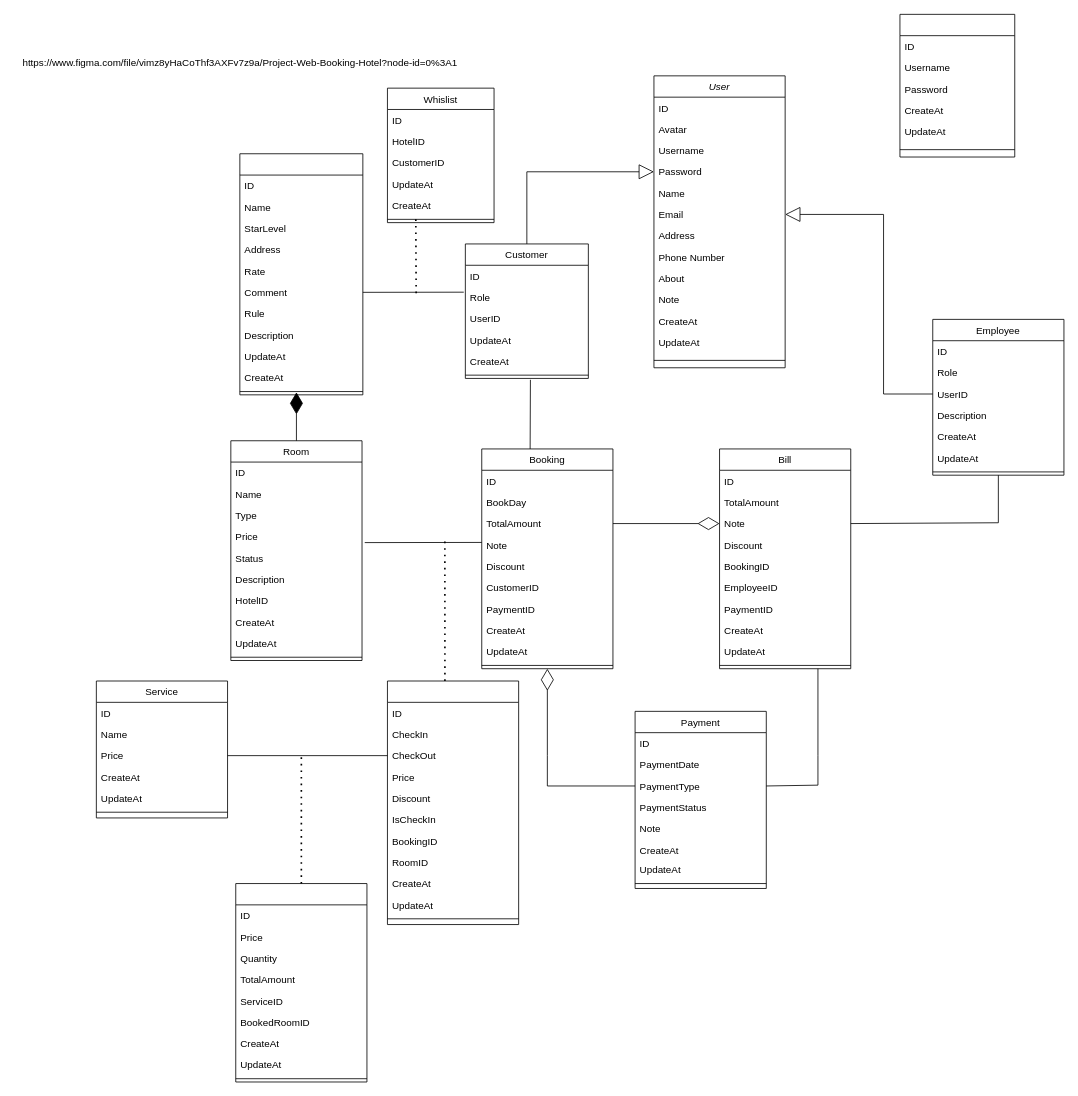
This 1078x1096 diagram has some shape labels left out. The shapes that lost their labels are listed below. From the top down, each one's box as (x1, y1, x2, y2) in pixels, then its label:
(899, 14, 1015, 157): Account
(239, 153, 363, 395): Hotel
(387, 680, 519, 925): BookedRoom
(235, 883, 367, 1082): UserService
